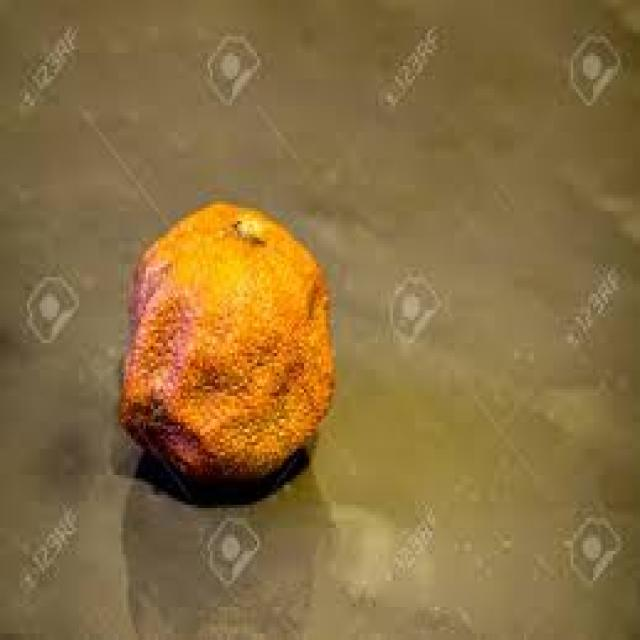overripe: (110, 200, 339, 508)
